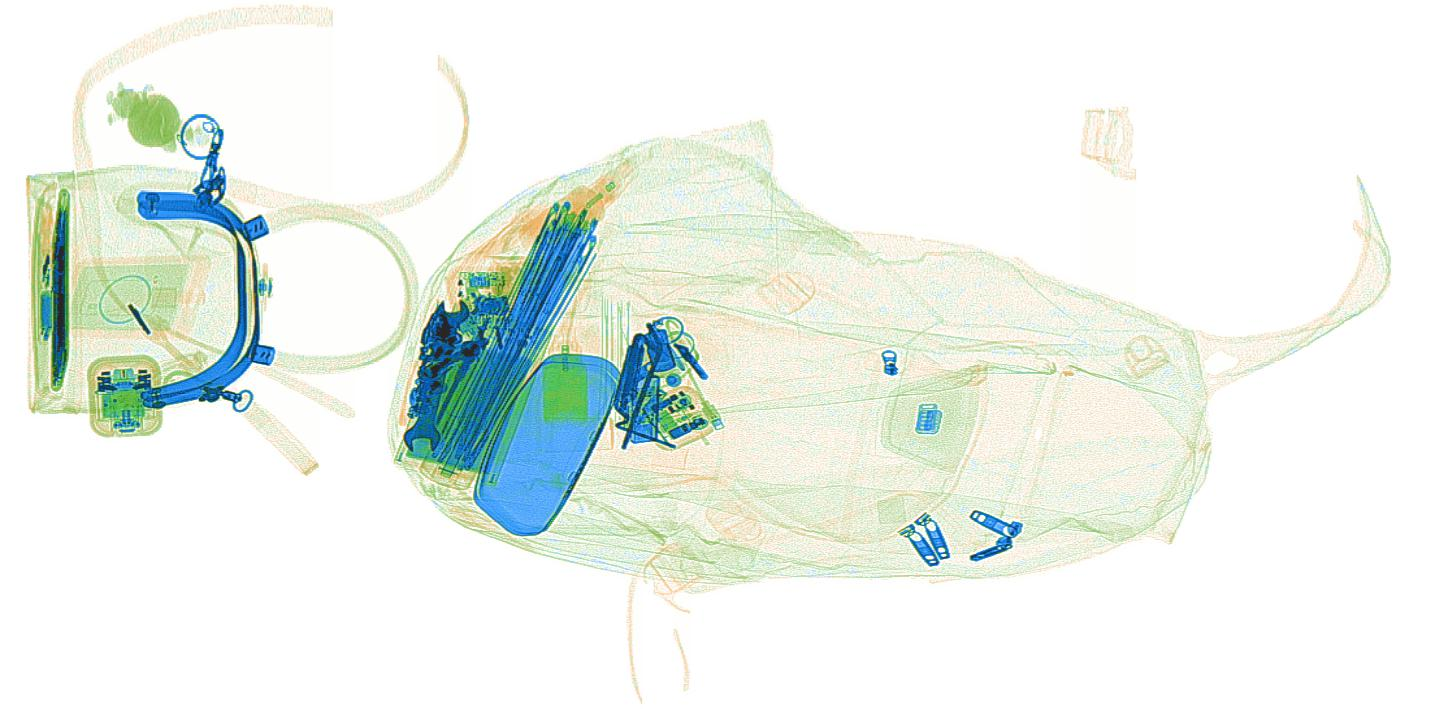plasticBottleWithaNozzle: (517, 159, 638, 265), (540, 309, 593, 425)
